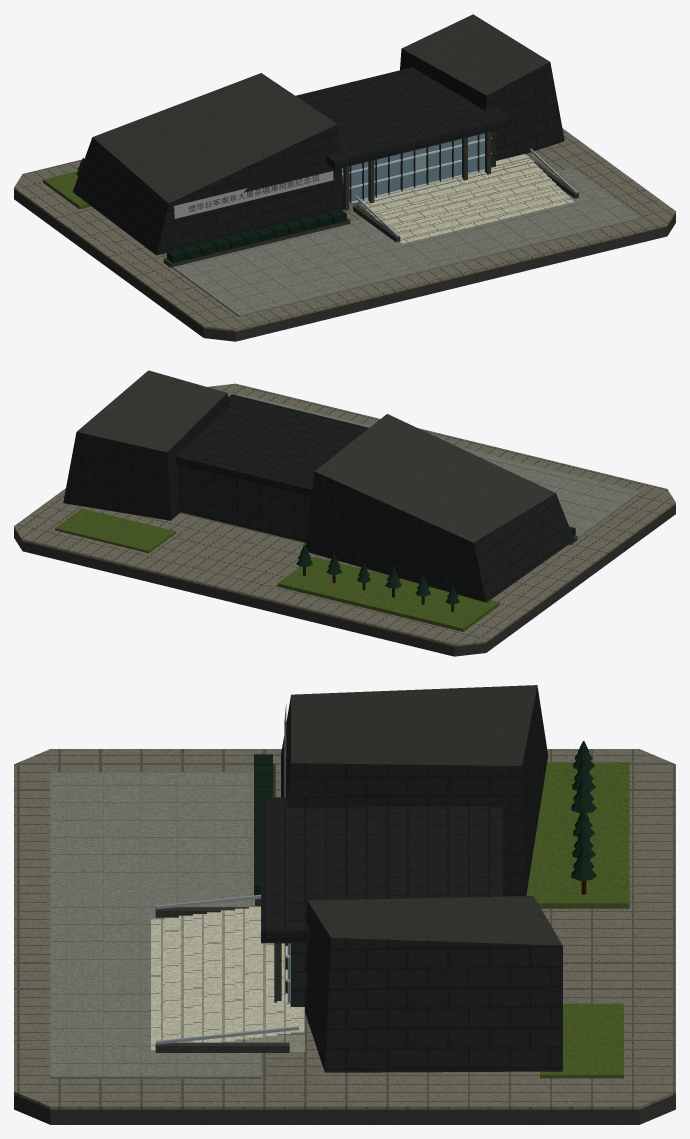
Rendered from nanjing-massacre-memorial.glb.
The picture shows the model from 3 angles, top to bottom: view 1: azimuth 30°, elevation 25°; view 2: azimuth 150°, elevation 25°; view 3: azimuth 270°, elevation 25°; orthographic projection. The views are drawn at different scales.
Visible parts, largest first — view 1: 侵华日军南京大屠杀遇难同胞纪念馆; view 2: 侵华日军南京大屠杀遇难同胞纪念馆; view 3: 侵华日军南京大屠杀遇难同胞纪念馆.
Part boxes in pixels (bbox=[...]): 侵华日军南京大屠杀遇难同胞纪念馆: bbox=[14, 14, 675, 341]; 侵华日军南京大屠杀遇难同胞纪念馆: bbox=[14, 370, 675, 656]; 侵华日军南京大屠杀遇难同胞纪念馆: bbox=[14, 685, 675, 1124].
Size of the model in its own units: 11 by 2.35 by 8.6.
Materials: 17 (13 with a texture image).
